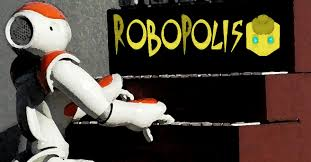nao: (3, 2, 175, 161)
